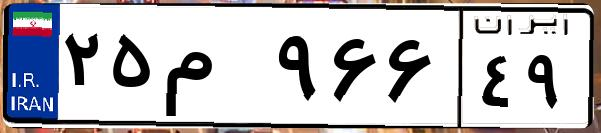2: (57, 26, 110, 100)
4: (475, 38, 525, 113)
5: (110, 28, 158, 98)
6: (385, 28, 445, 110), (330, 28, 385, 110)
9: (270, 28, 330, 110), (525, 38, 570, 115)
م: (158, 20, 270, 120)
